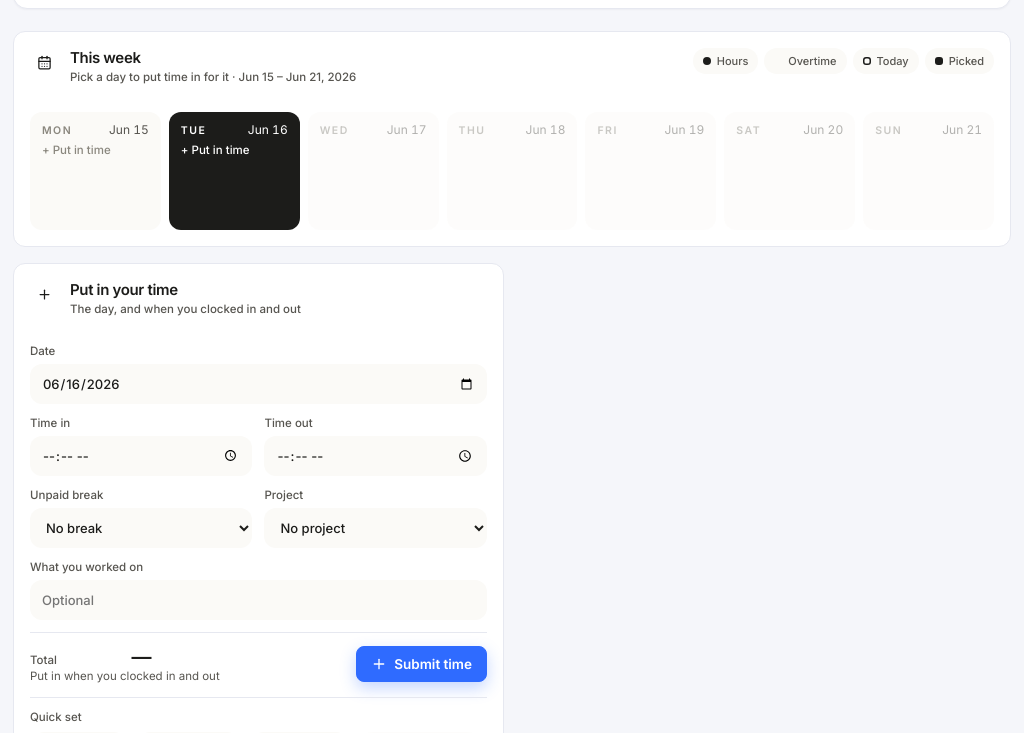
Test: a Member putting in their time › says what the server refused, under the field it names
(page scrolled)
In the date field labelled "Date": [258, 384] box [30, 364, 487, 404], type "2026-06-15"
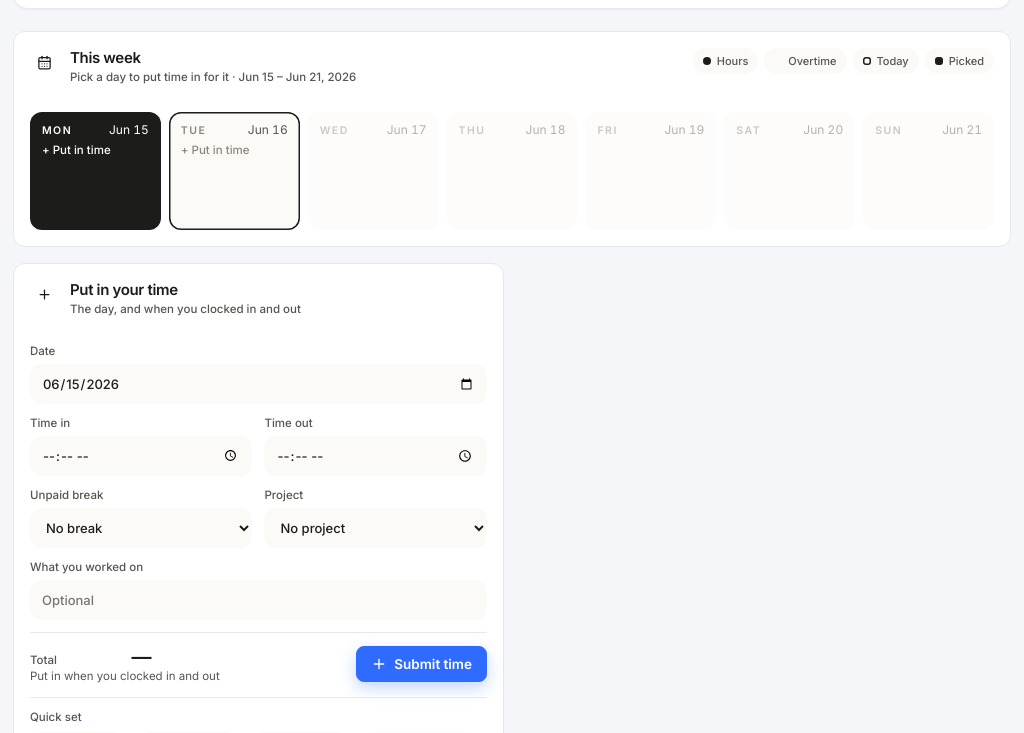
In the time field labelled "Time in": [141, 456] box [30, 436, 252, 476], type "07:00"
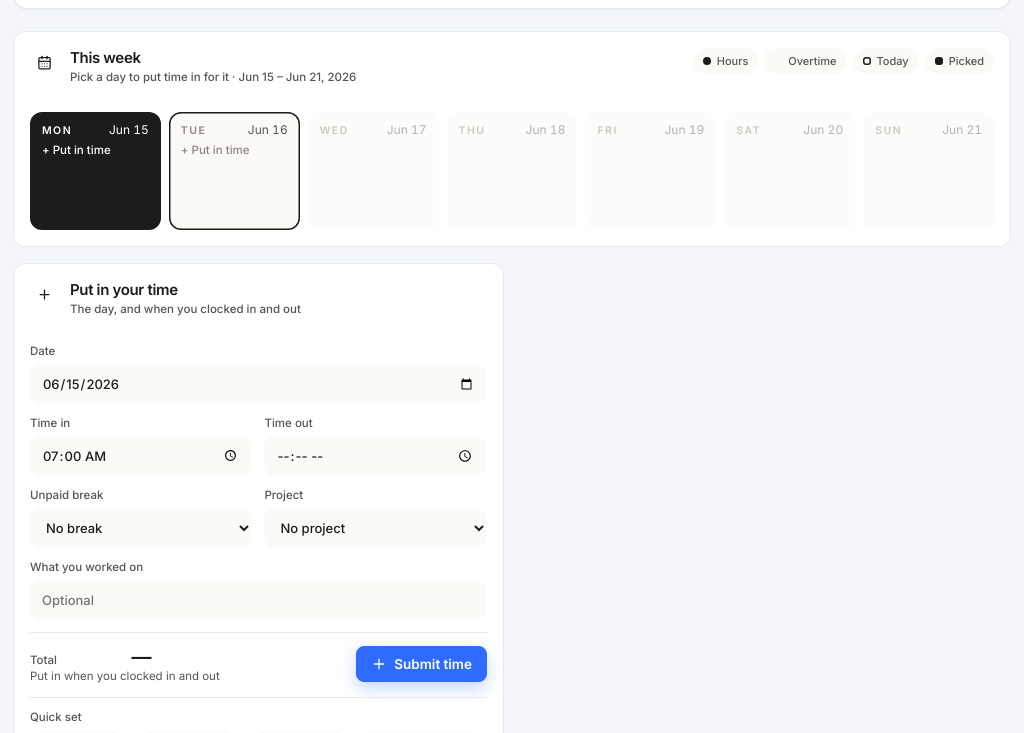
In the time field labelled "Time out": [376, 456] box [264, 436, 487, 476], type "15:00"
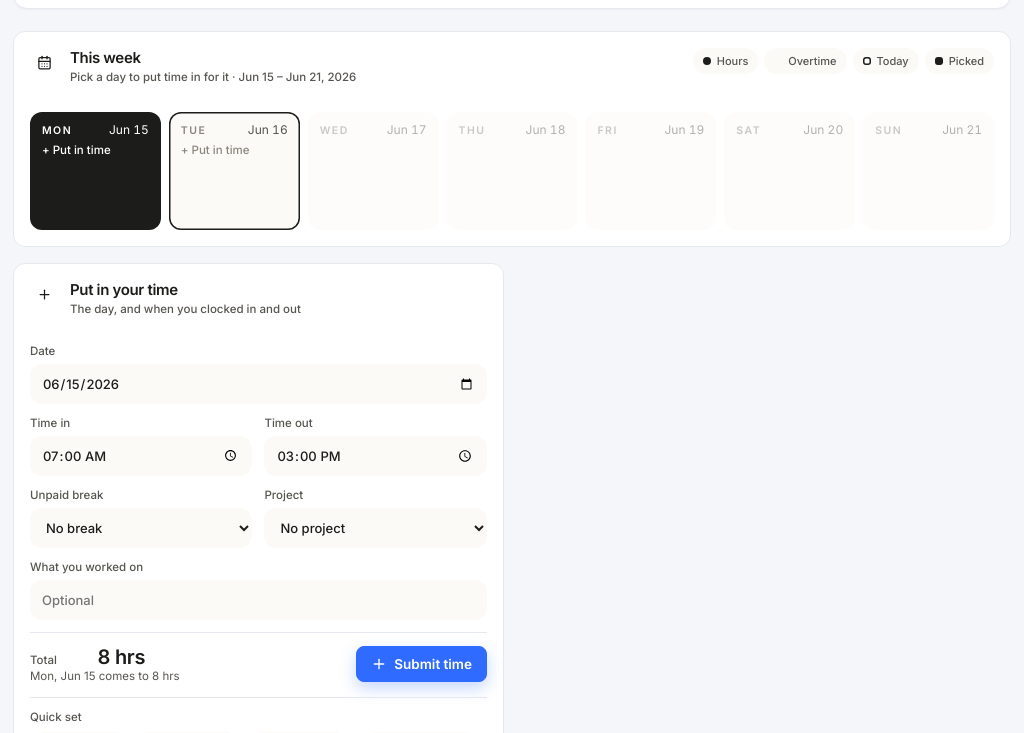
Click the button "Submit time": [422, 664] box [356, 646, 487, 682]
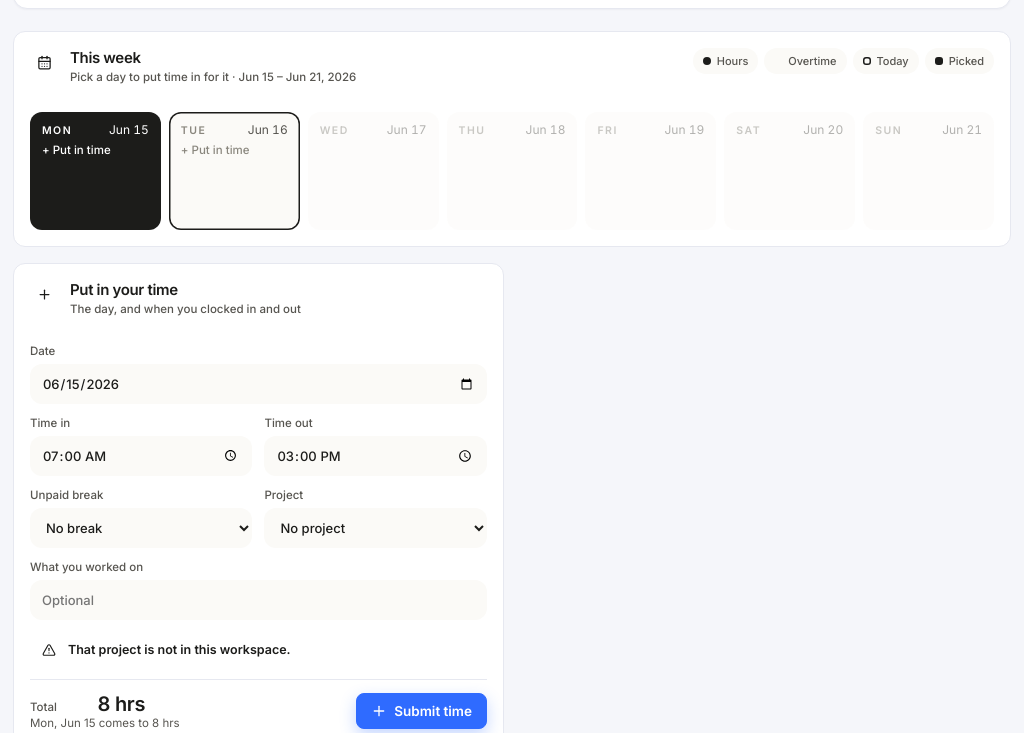
Expected: the message reads "That project is not in this workspace.", [68, 642, 291, 657]
